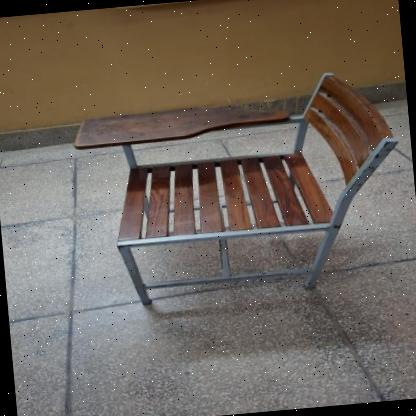chair: (66, 58, 416, 326)
